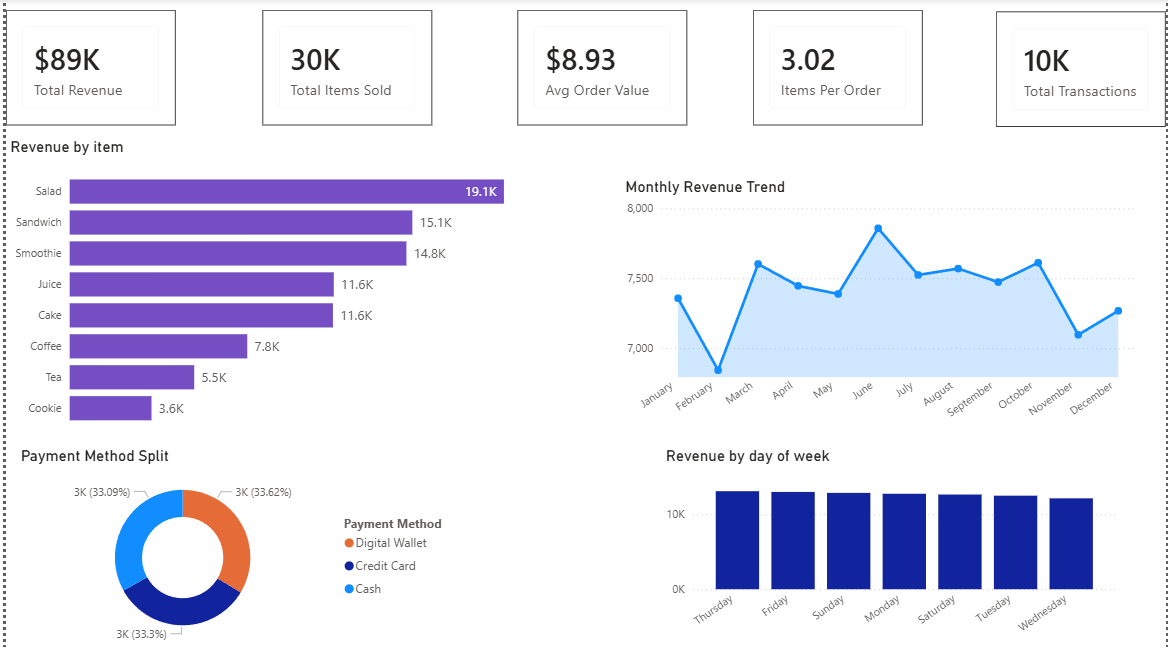

The page's visual inventory and layout, read from the dashboard file:
{"tool":"powerbi","page":{"name":"Page 1","canvas":[1280,720],"ordinal":0},"visuals":[{"type":"cardVisual","fields":{"Data":["cafe_sales_clean.Total Revenue"]},"box":[0,13.3,187.2,127.5],"z":0},{"type":"cardVisual","fields":{"Data":["cafe_sales_clean.Total Items Sold"]},"box":[283.3,13.3,187.2,127.5],"z":1000},{"type":"cardVisual","fields":{"Data":["cafe_sales_clean.Avg Order Value"]},"box":[564.9,13.3,187.2,127.5],"z":2000},{"type":"clusteredBarChart","title":"Revenue by item","fields":{"Category":["cafe_sales_clean.Item"],"Y":["Sum(cafe_sales_clean.Total Spent)"]},"box":[0,154.1,596.3,331.3],"z":3000},{"type":"lineChart","title":"Monthly Revenue Trend","fields":{"Category":["cafe_sales_clean.Transaction Date.Variation.Date Hierarchy.Month"],"Y":["Sum(cafe_sales_clean.Total Spent)"]},"box":[679.2,198.8,571.5,286.6],"z":4000},{"type":"donutChart","title":"Payment Method Split","fields":{"Category":["cafe_sales_clean.Payment Method"],"Y":["cafe_sales_clean.Transaction_Count"]},"box":[11.6,495.3,490.3,225.3],"z":5000},{"type":"clusteredColumnChart","title":"Revenue by day of week","fields":{"Category":["cafe_sales_clean.Day of Week"],"Y":["Sum(cafe_sales_clean.Total Spent)"]},"box":[723.9,495.3,506.9,225.3],"z":6000},{"type":"cardVisual","fields":{"Data":["cafe_sales_clean.Avg Items Per Transaction"]},"box":[824.9,13.3,187.2,127.5],"z":7000},{"type":"cardVisual","fields":{"Data":["cafe_sales_clean.Total Transactions"]},"box":[1093.3,14.9,187.2,127.5],"z":8000}]}

Visuals, with their boxes in screenshot pixels (x1, y1, x2, y2), scaled from the page's 1280x720 canvas onto the 1168x649 screenshot:
cardVisual - cafe_sales_clean.Total Revenue: Rect(0, 12, 171, 127)
cardVisual - cafe_sales_clean.Total Items Sold: Rect(259, 12, 429, 127)
cardVisual - cafe_sales_clean.Avg Order Value: Rect(515, 12, 686, 127)
"Revenue by item" clusteredBarChart: Rect(0, 139, 544, 438)
"Monthly Revenue Trend" lineChart: Rect(620, 179, 1141, 438)
"Payment Method Split" donutChart: Rect(11, 446, 458, 648)
"Revenue by day of week" clusteredColumnChart: Rect(661, 446, 1123, 648)
cardVisual - cafe_sales_clean.Avg Items Per Transaction: Rect(753, 12, 924, 127)
cardVisual - cafe_sales_clean.Total Transactions: Rect(998, 13, 1167, 128)
